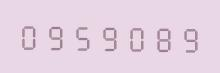eight: (147, 20, 172, 54)
five: (69, 19, 94, 52)
nine: (43, 18, 68, 52), (95, 19, 120, 53), (173, 21, 198, 54)
zero: (17, 18, 42, 51), (121, 20, 146, 53)
